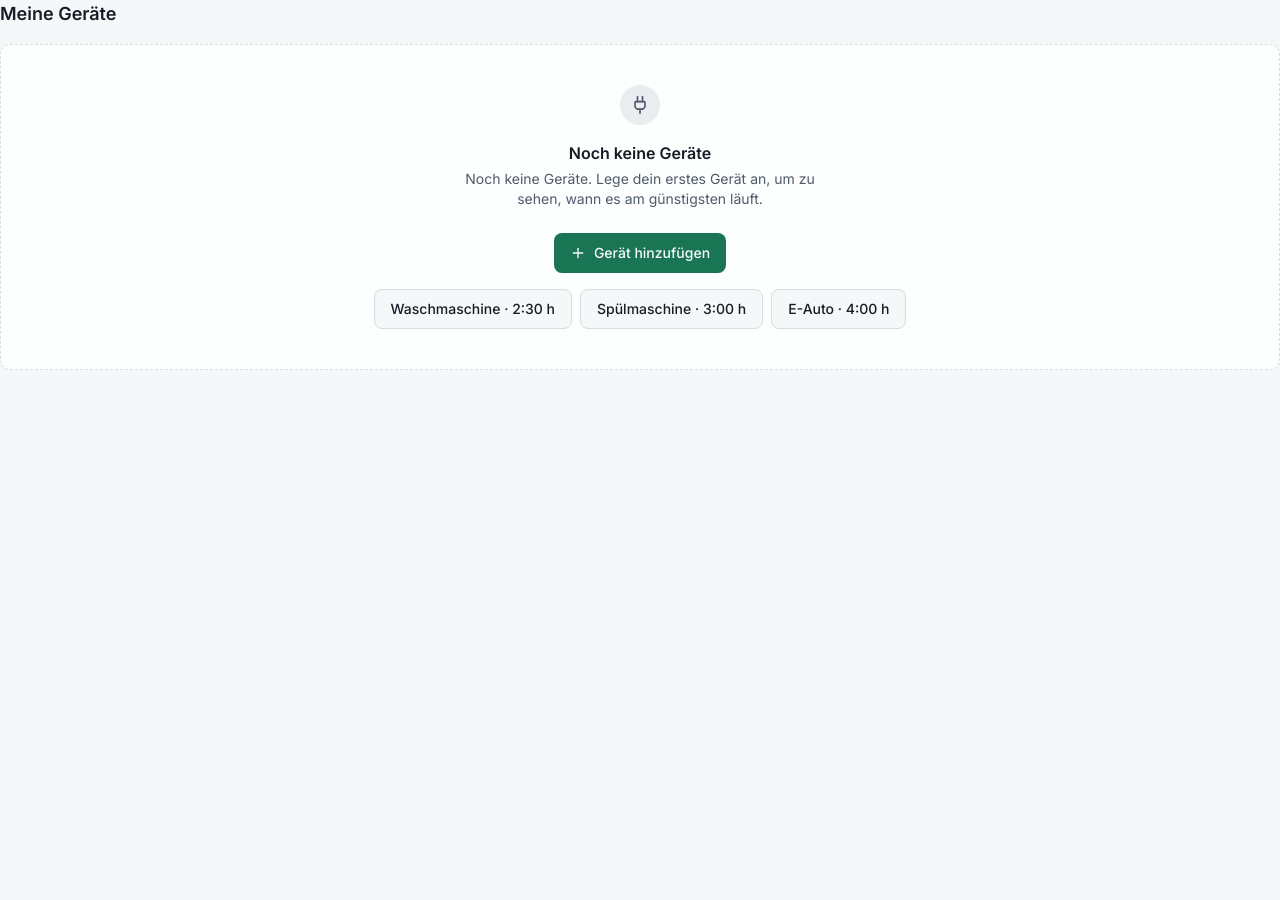
Scenario: DevicesPanel — list and recommendations › shows the empty state with presets instead of the header button (AC-3, AC-4)
Expected: the text "Noch keine Geräte. Lege dein erstes Gerät an, um zu sehen, wann es am günstigsten läuft." is shown, [465,170,815,207]
Expected: the number of buttons "Gerät hinzufügen" is 1, [554,233,726,273]
Click the button "Waschmaschine · 2:30 h" at (473, 309), box [374,289,572,329]
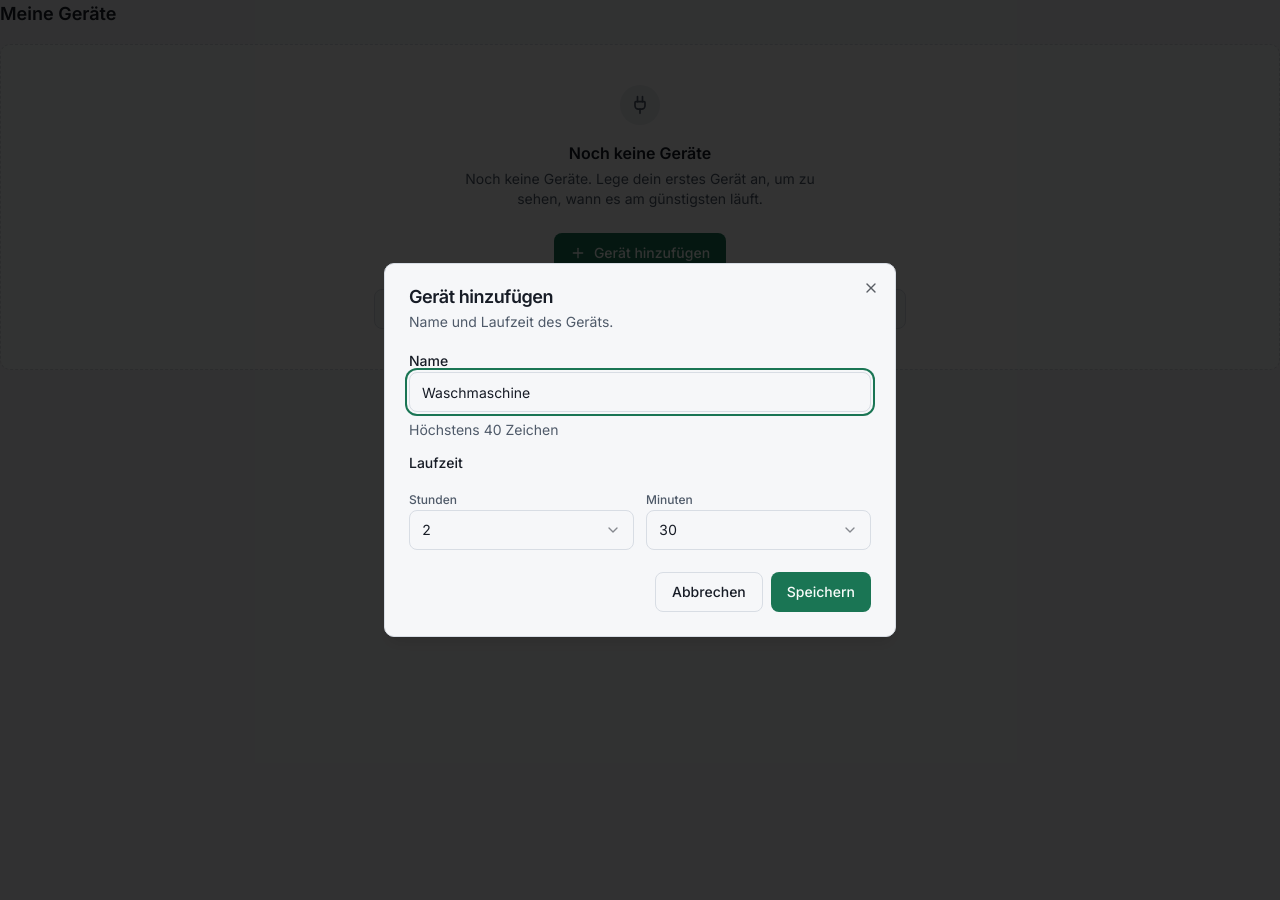
Expected: the field labelled "Name" holds "Waschmaschine", [409,372,871,412]
